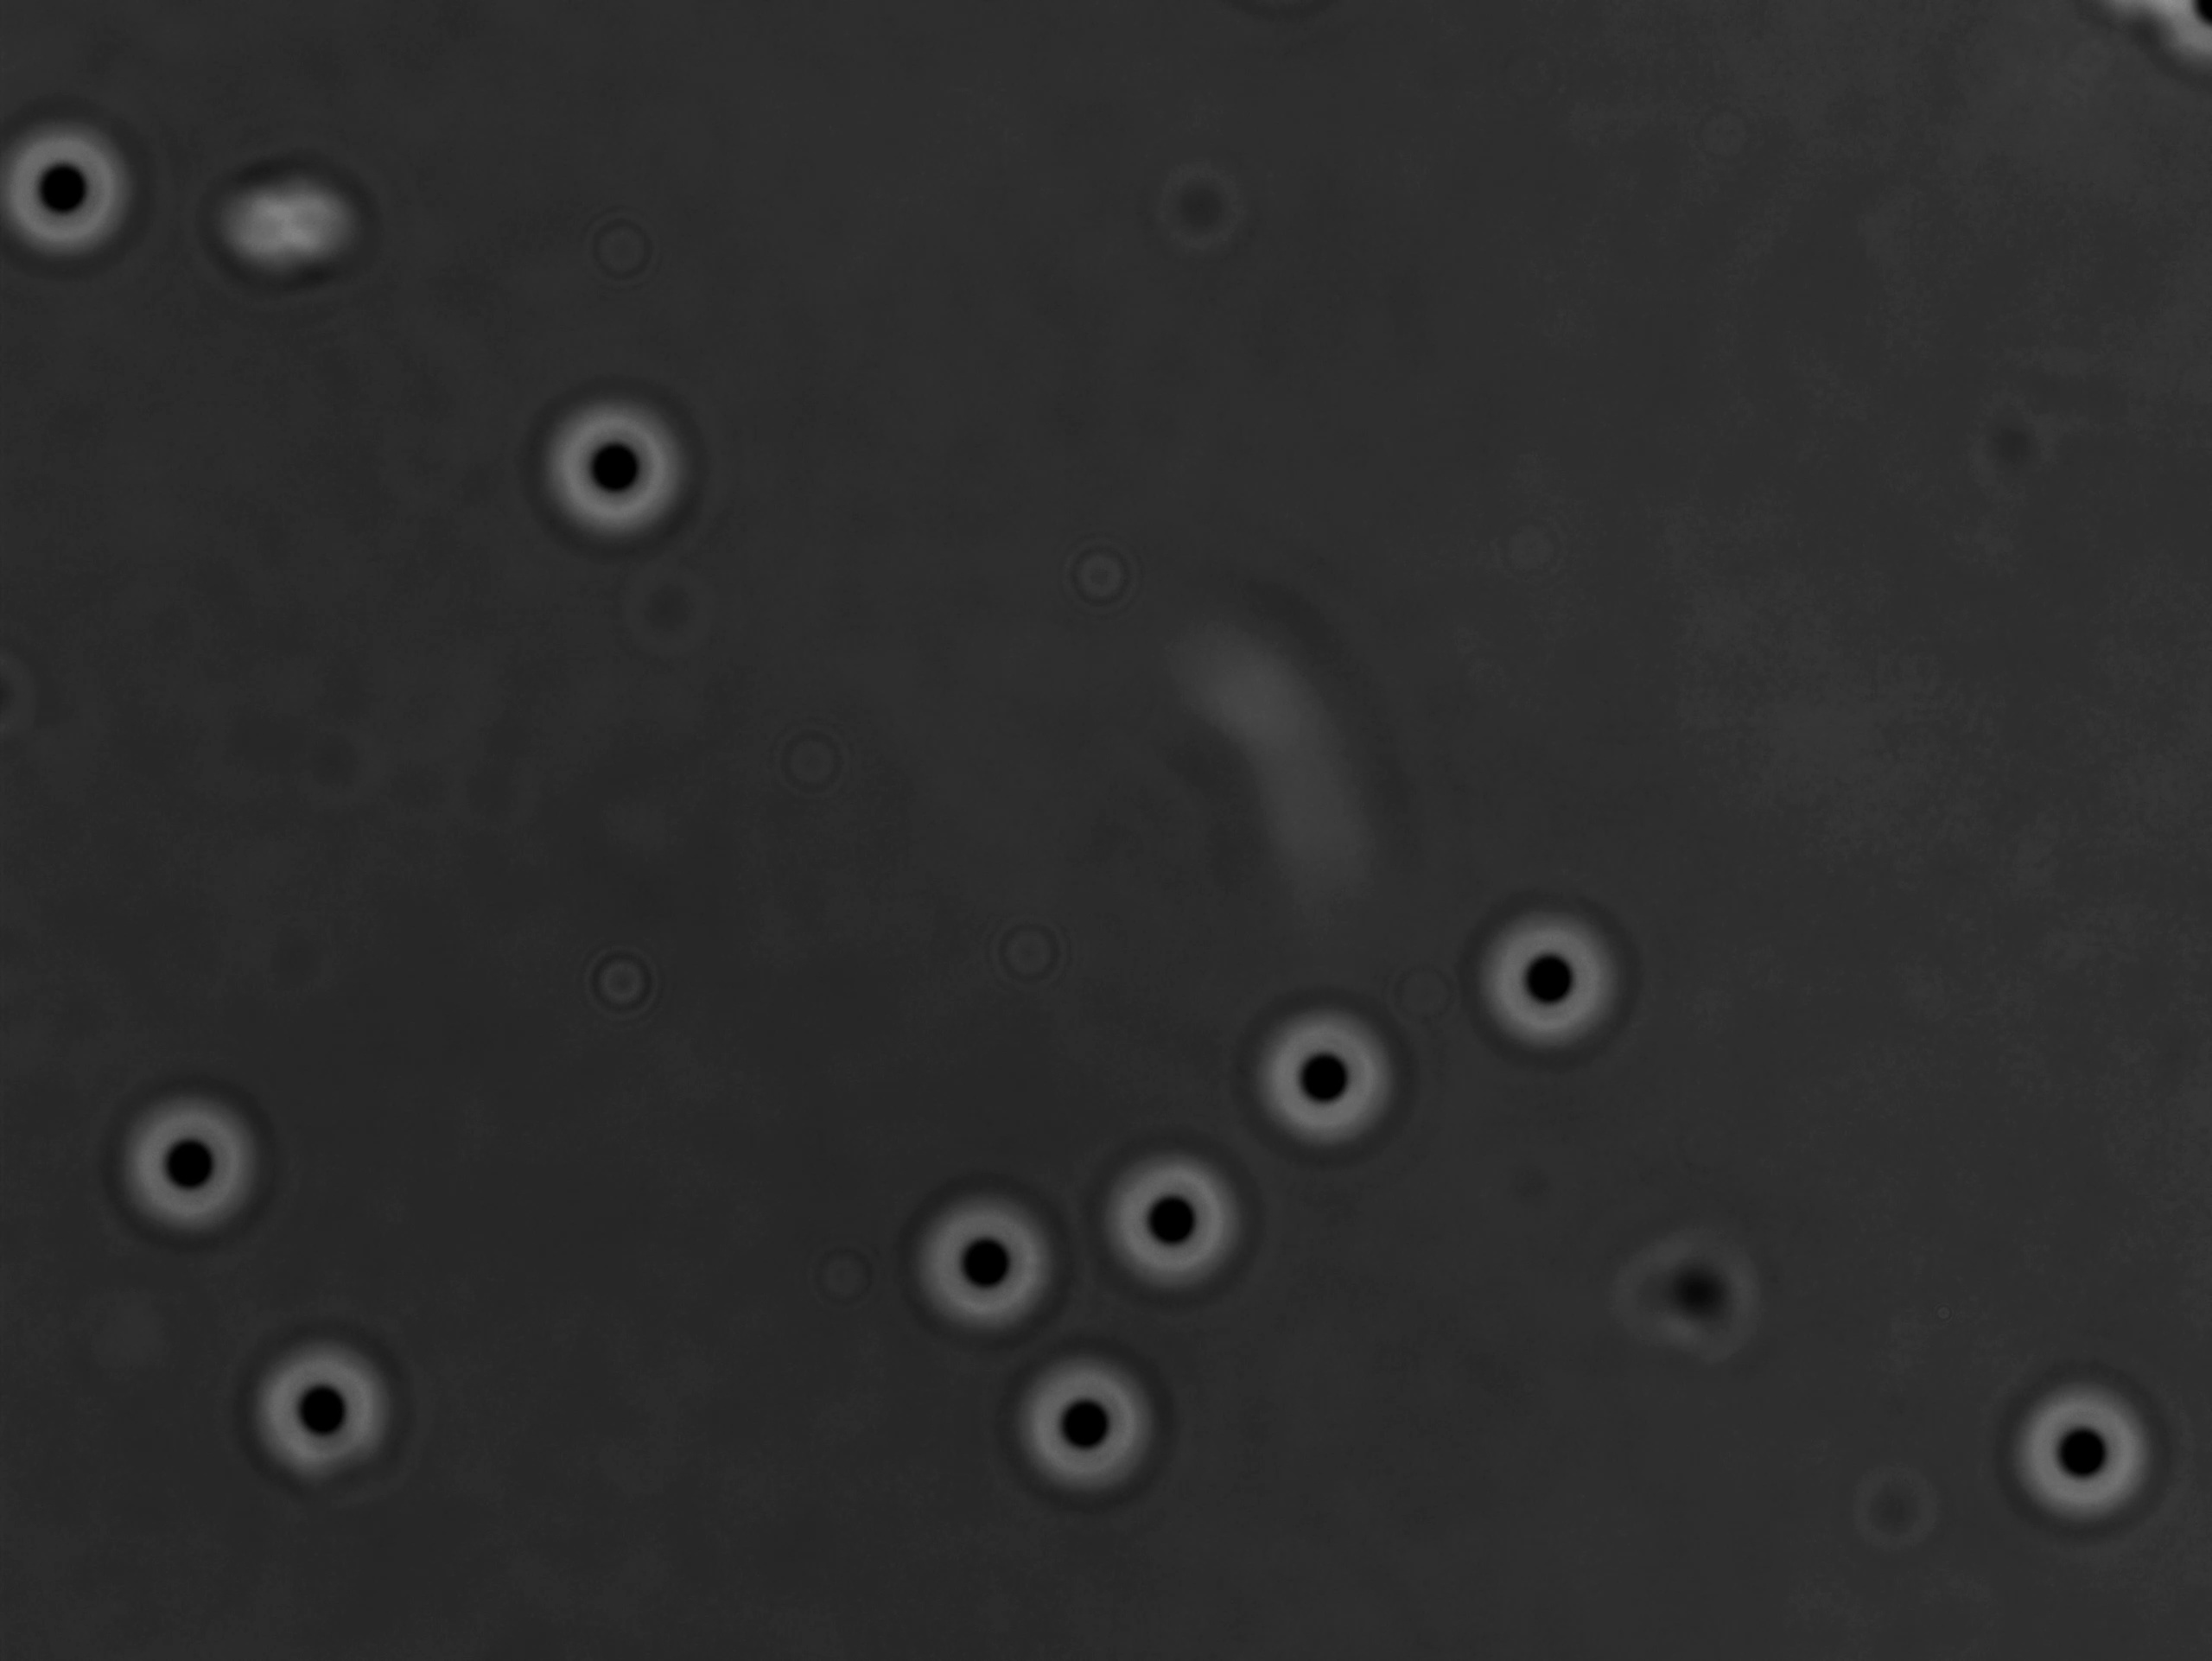depth:-40: (1230, 977, 1425, 1159), (1455, 883, 1649, 1063), (2006, 1354, 2184, 1530), (1085, 1134, 1266, 1303), (898, 1176, 1069, 1345), (530, 387, 696, 562), (1005, 1340, 1179, 1506), (244, 1317, 412, 1487), (115, 1094, 274, 1244)
